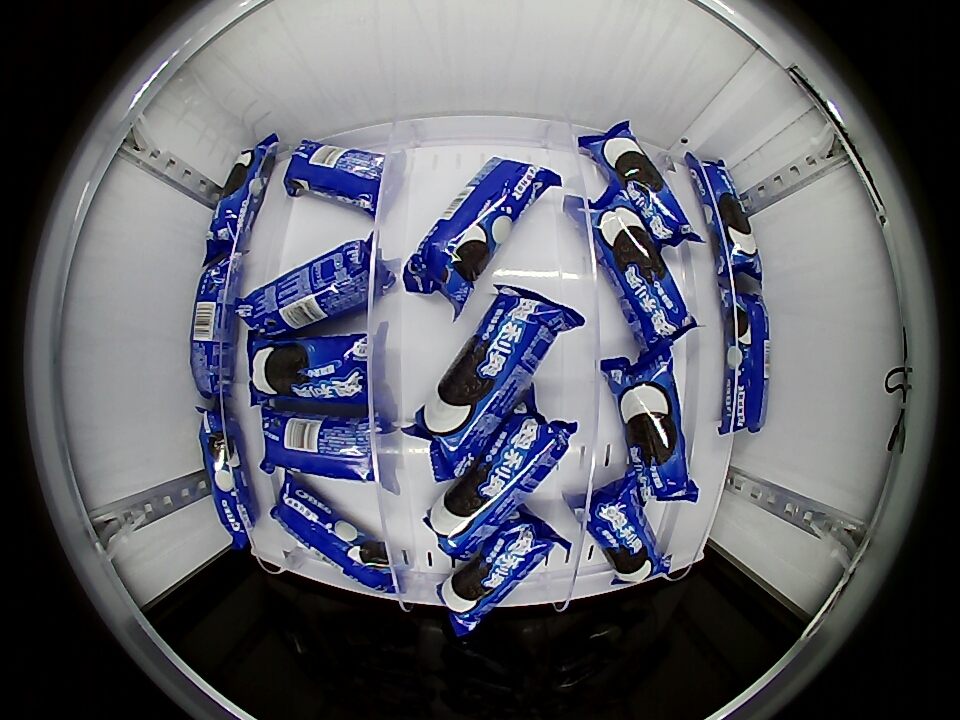aoliao: (402, 285, 587, 484), (422, 385, 579, 563), (404, 155, 565, 318), (565, 178, 702, 357), (434, 501, 573, 645), (240, 232, 399, 336), (268, 472, 399, 597), (577, 121, 703, 248), (599, 349, 701, 505), (563, 476, 671, 588), (682, 151, 768, 291), (248, 333, 389, 412), (283, 137, 401, 220), (194, 403, 259, 550), (259, 410, 385, 483), (208, 134, 280, 250), (189, 255, 243, 397), (721, 296, 771, 430)
